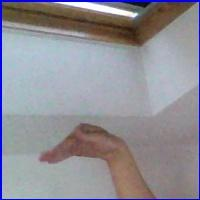del: (40, 117, 131, 181)
